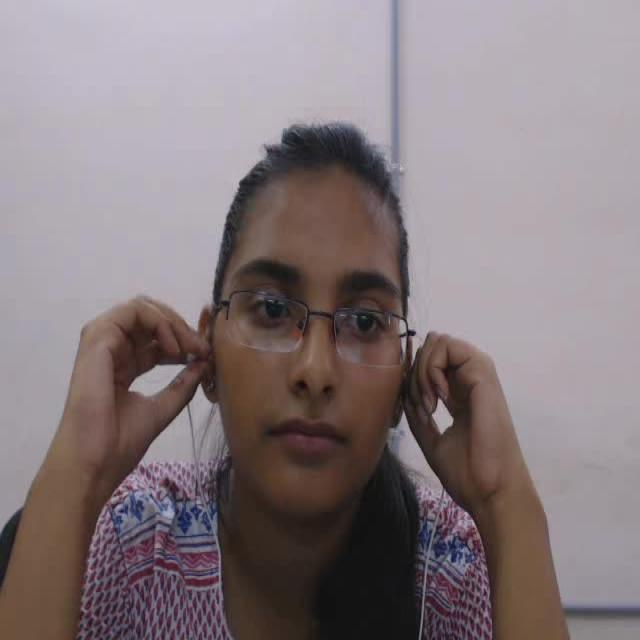Bored: (155, 103, 457, 552)
